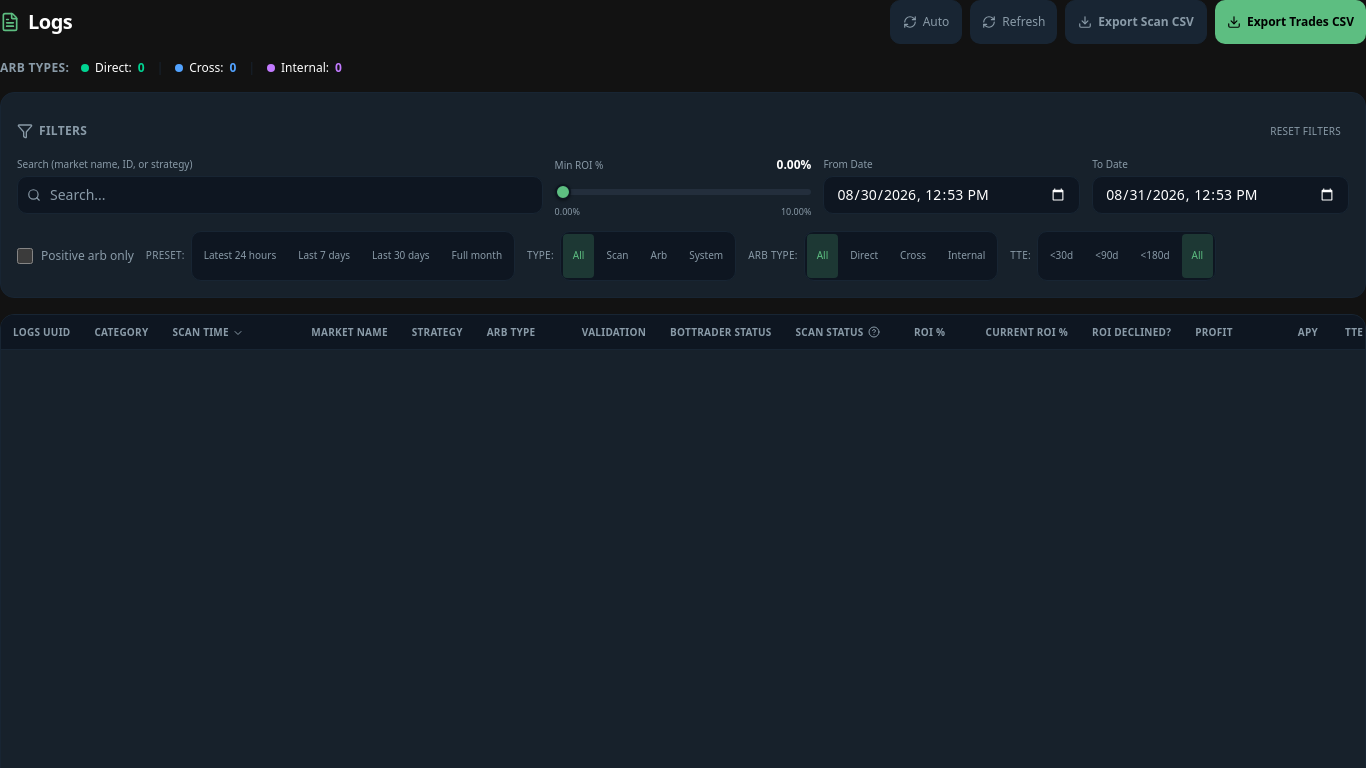
LogsPanel › synchronously invalidates a pending append and resets virtual scroll for event type changes
The width and height of the screenshot is (1366, 768).
(page scrolled)
Click the button "Arb" at (659, 256), box [640, 234, 677, 278]
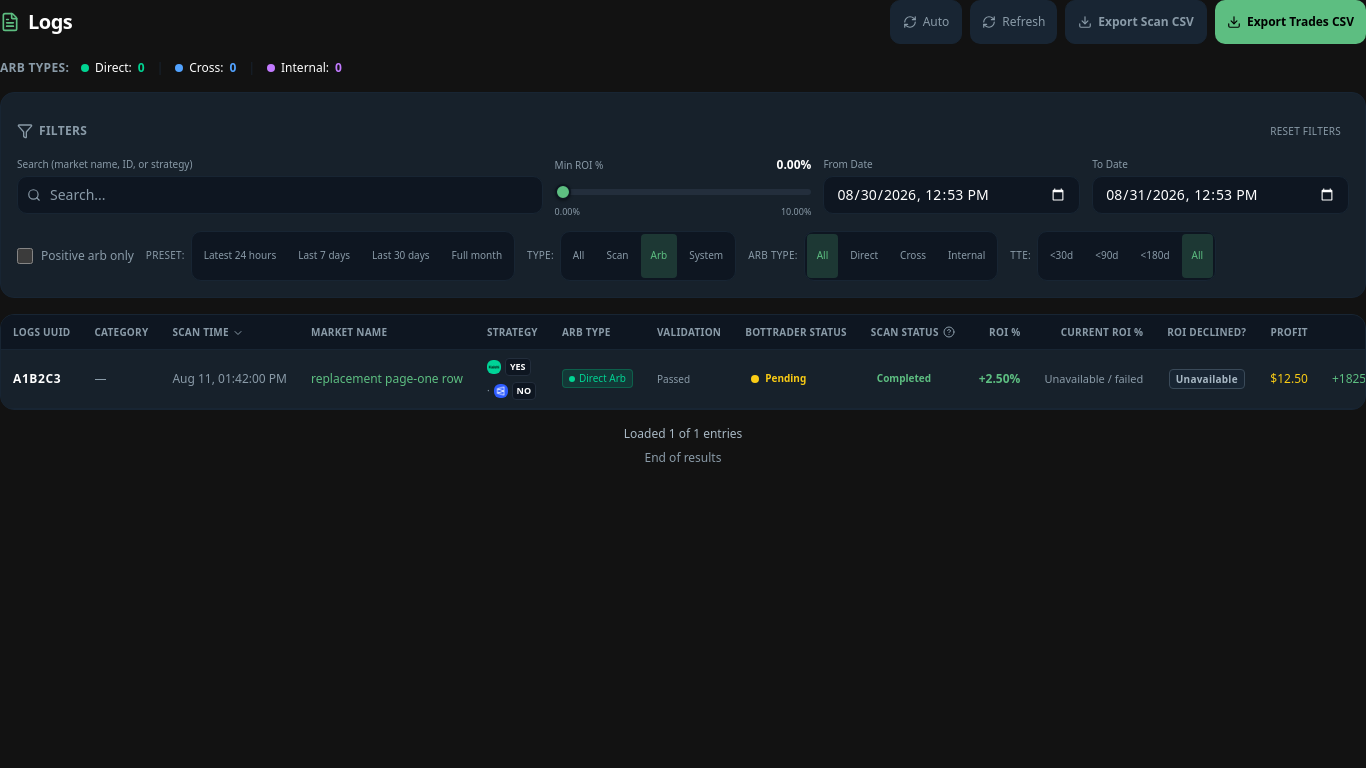
Result: the button "replacement page-one row" is shown at [311, 370, 463, 387]
